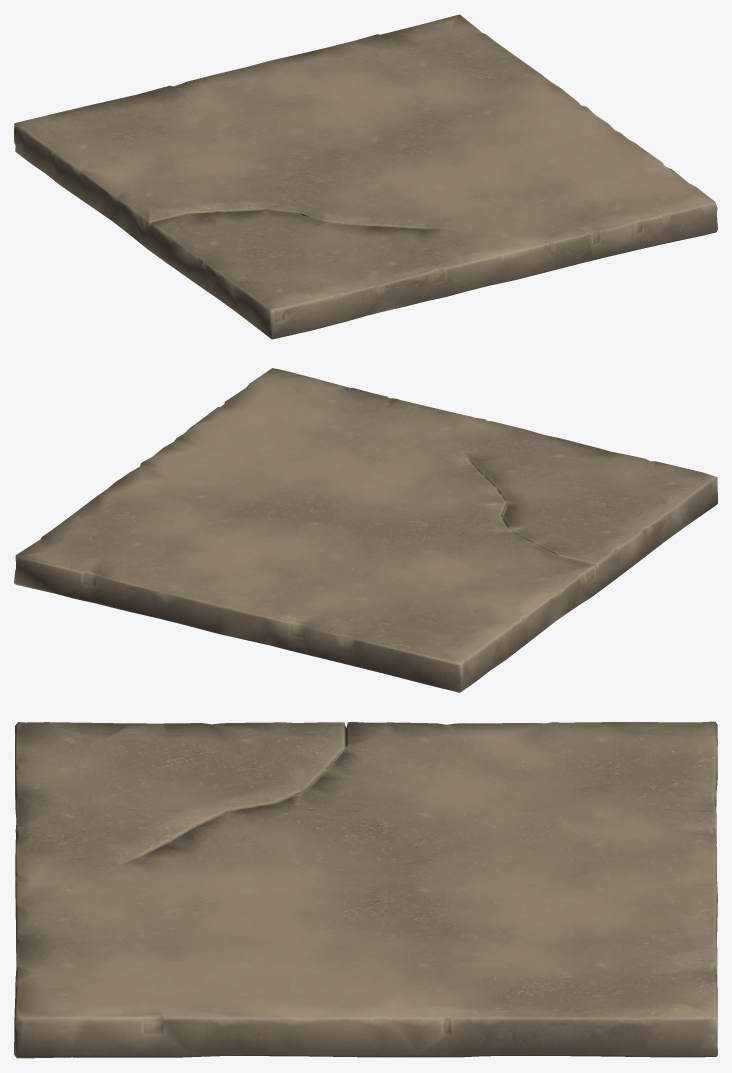
The model's file is slab1-cantera.glb.
The picture shows the model from 3 angles, top to bottom: view 1: azimuth 30°, elevation 25°; view 2: azimuth 150°, elevation 25°; view 3: azimuth 270°, elevation 25°; orthographic projection. The views are drawn at different scales.
Parts seen in each view (by area): view 1: slab1; view 2: slab1; view 3: slab1.
Part boxes in pixels (<box>): slab1: <box>14,14,717,339</box>; slab1: <box>14,368,717,692</box>; slab1: <box>14,721,717,1058</box>.
Bounding box in the file's own units: 0.9905 × 0.0649 × 0.99.
Materials: 1 (1 with a texture image).
